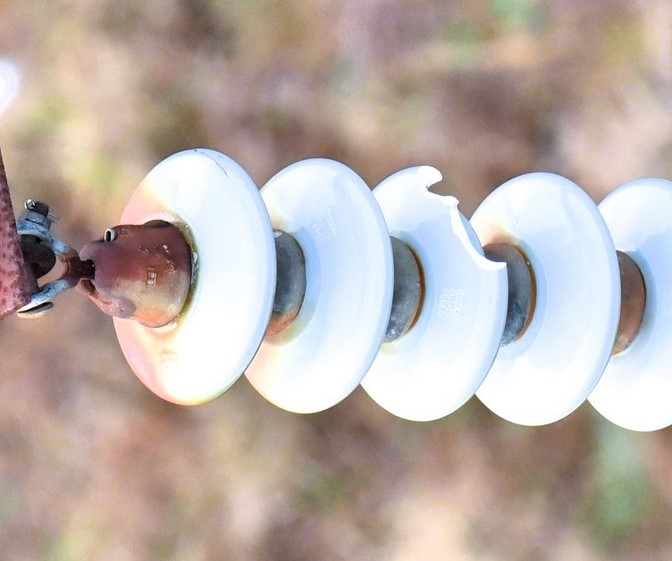insulator breakage: (353, 159, 515, 427)
